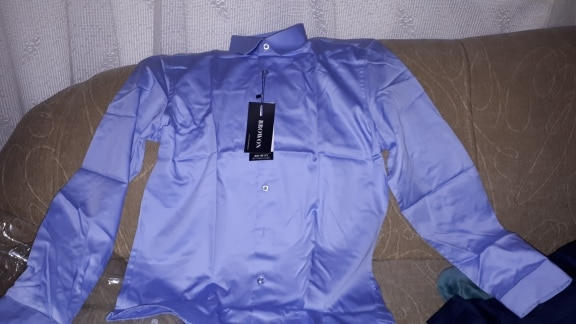shirts: (25, 26, 552, 324)
